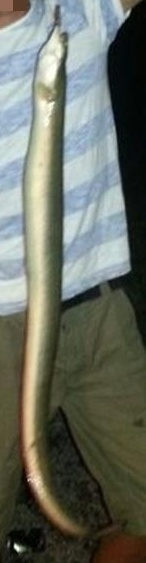Anguilla anguilla: (20, 20, 126, 543)
